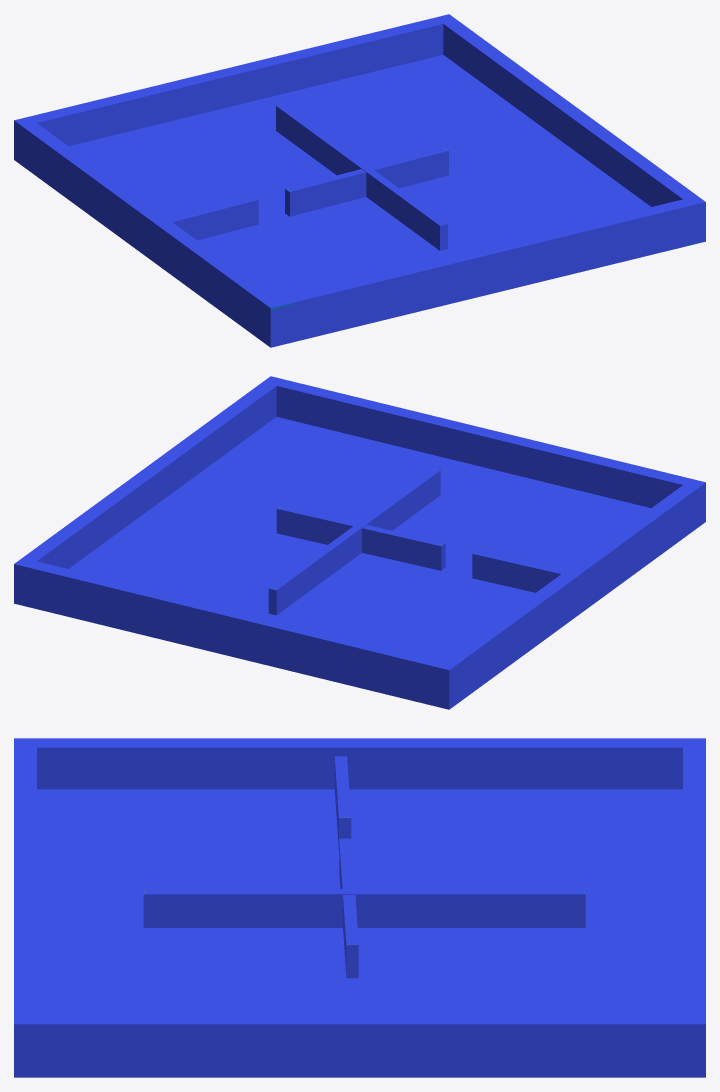
Rendered from room.gltf.
The picture shows the model from 3 angles, top to bottom: view 1: azimuth 30°, elevation 25°; view 2: azimuth 150°, elevation 25°; view 3: azimuth 270°, elevation 25°; orthographic projection. The views are drawn at different scales.
Parts seen in each view (by area): view 1: Hall, Wall, Wall.001, Wall.003; view 2: Hall, Wall, Wall.001, Wall.003; view 3: Hall, Wall, Wall.001, Wall.003.
Boxes of the visible parts, box(x1,y1,x2,y2) form: Hall: box(14, 14, 705, 347); Wall: box(276, 104, 447, 250); Wall.001: box(285, 147, 448, 216); Wall.003: box(168, 196, 258, 240); Hall: box(14, 376, 705, 709); Wall: box(268, 468, 440, 615); Wall.001: box(276, 505, 445, 570); Wall.003: box(472, 550, 565, 592); Hall: box(14, 738, 705, 1077); Wall: box(143, 889, 585, 927); Wall.001: box(339, 838, 358, 978); Wall.003: box(334, 756, 351, 850).
Size of the model in its own units: 31.17 by 2.71 by 31.84.
2 materials, 2 textured.
